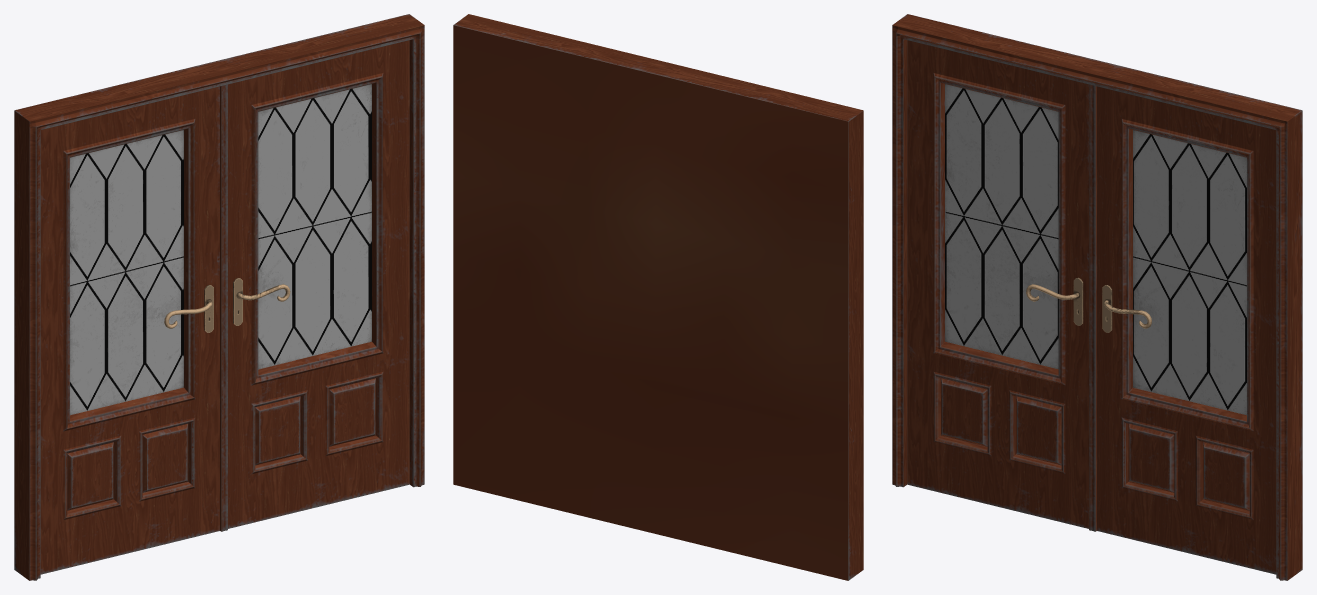
Rendered from Pubdoors.glb.
3 views of the same model, side by side, from view 1: azimuth 30°, elevation 25°; view 2: azimuth 150°, elevation 25°; view 3: azimuth 330°, elevation 25° (orthographic).
Parts seen in each view (by area): view 1: Plane.007; view 2: Plane.007; view 3: Plane.007.
Part boxes in pixels (bbox=[...]): Plane.007: bbox=[14, 14, 424, 580]; Plane.007: bbox=[453, 14, 863, 580]; Plane.007: bbox=[892, 14, 1302, 580].
Bounding box in the file's own units: 1.97 × 2.19 × 0.1462.
1 material, 1 textured.
